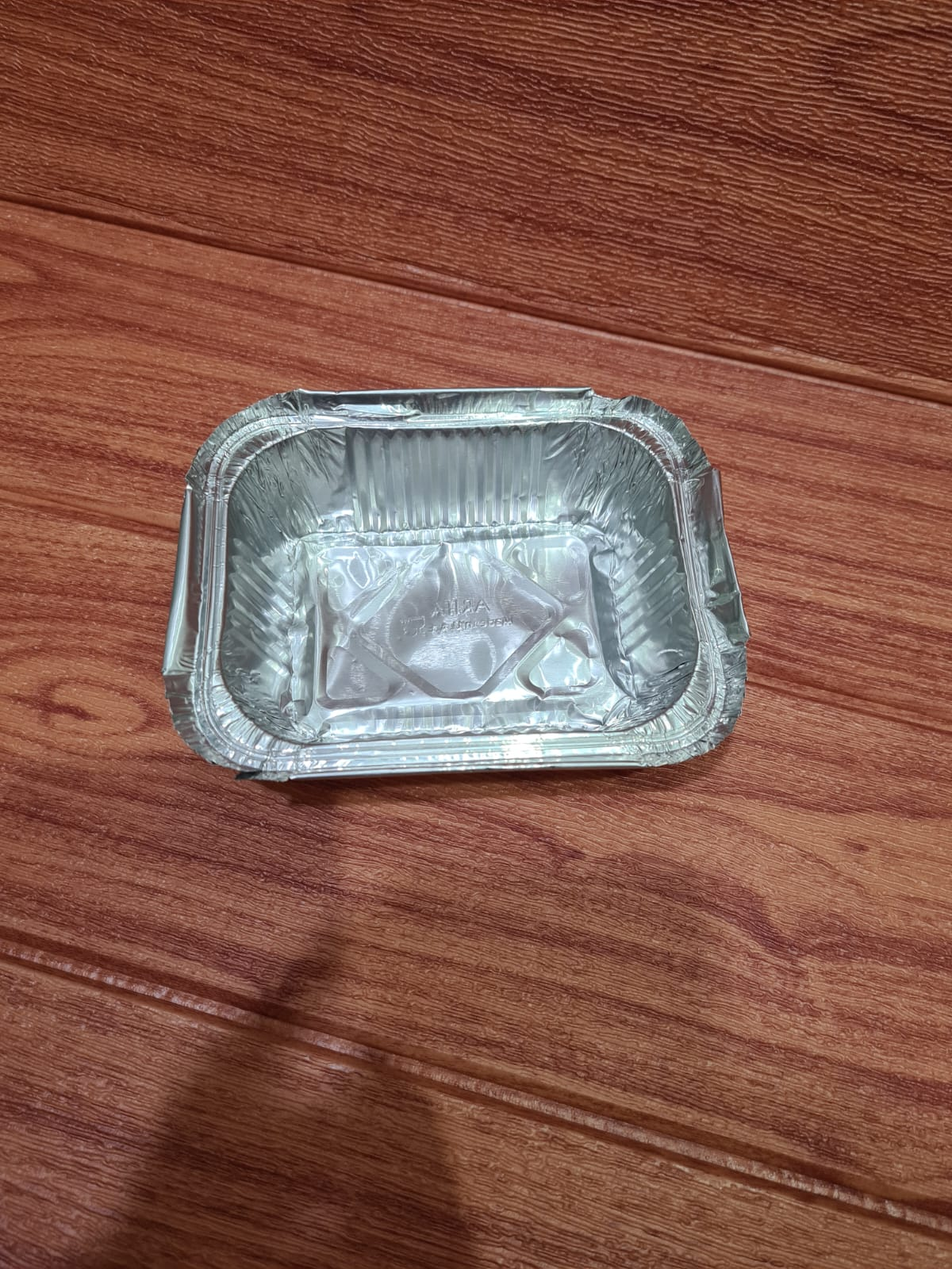Metal: (147, 392, 785, 791)
